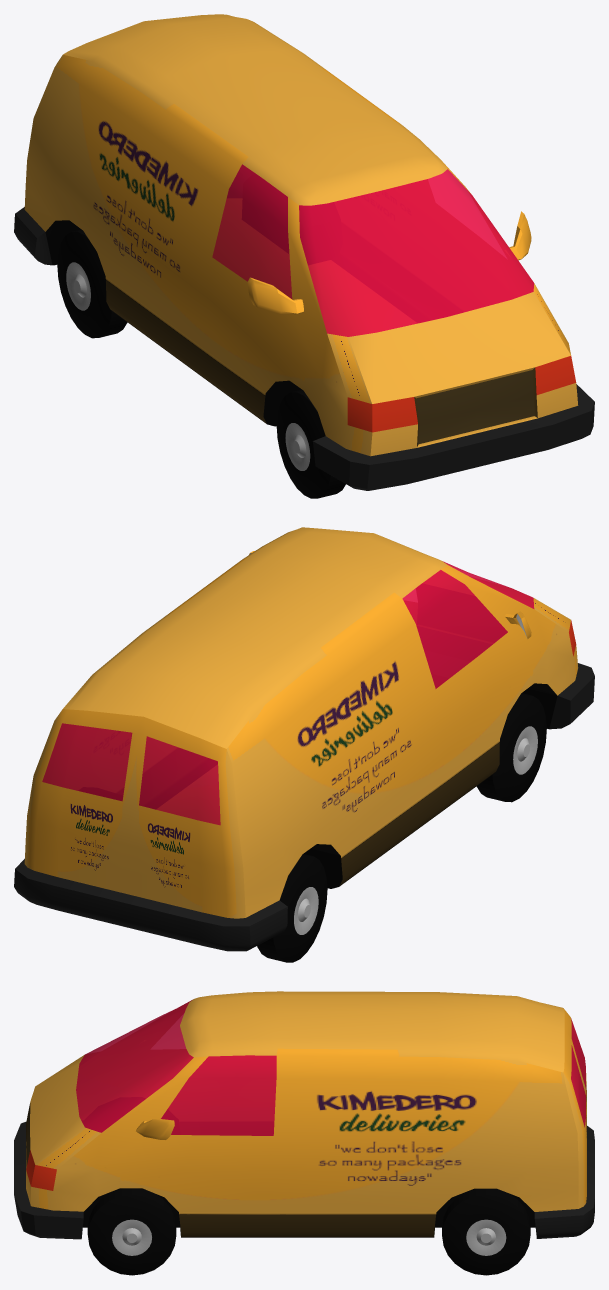
File: DELIVERY VAN.glb
3 renders of one model, top to bottom at view 1: azimuth 30°, elevation 25°; view 2: azimuth 150°, elevation 25°; view 3: azimuth 270°, elevation 25°, orthographic. The views are drawn at different scales.
Parts seen in each view (by area): view 1: BODY-rigid, WHEEL.BACK.RIGHT-wheel, WHEEL.FRONT.RIGHT-wheel, MIRRORS; view 2: BODY-rigid, WHEEL.FRONT.RIGHT-wheel, WHEEL.BACK.RIGHT-wheel; view 3: BODY-rigid, WHEEL.FRONT.LEFT-wheel, WHEEL.BACK.LEFT-wheel, MIRRORS.
Boxes of the visible parts, <box> form: BODY-rigid: <box>14,14,594,490</box>; WHEEL.BACK.RIGHT-wheel: <box>57,229,127,338</box>; WHEEL.FRONT.RIGHT-wheel: <box>276,389,345,498</box>; MIRRORS: <box>247,211,531,314</box>; BODY-rigid: <box>14,527,594,951</box>; WHEEL.FRONT.RIGHT-wheel: <box>476,693,546,802</box>; WHEEL.BACK.RIGHT-wheel: <box>257,854,327,962</box>; BODY-rigid: <box>14,991,594,1239</box>; WHEEL.FRONT.LEFT-wheel: <box>87,1188,176,1275</box>; WHEEL.BACK.LEFT-wheel: <box>442,1188,530,1275</box>; MIRRORS: <box>136,1118,174,1139</box>.
Size of the model in its own units: 2.78 by 2.64 by 6.25.
Materials: 8 (1 with a texture image).
